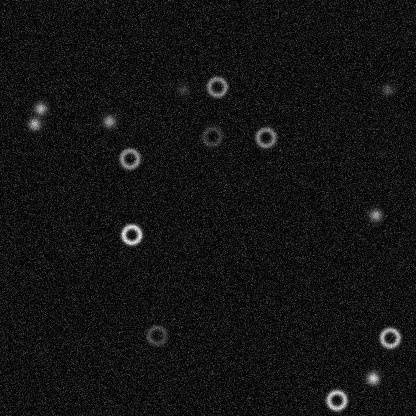Ring: (377, 325, 401, 349), (199, 124, 223, 148), (205, 74, 229, 98), (324, 388, 348, 412), (119, 222, 143, 246), (144, 323, 168, 347), (117, 146, 141, 170), (253, 125, 277, 149)
Spot: (26, 115, 42, 131), (174, 81, 190, 97), (101, 113, 117, 129), (367, 207, 383, 223), (32, 100, 48, 116), (364, 370, 380, 386), (379, 81, 395, 97)
